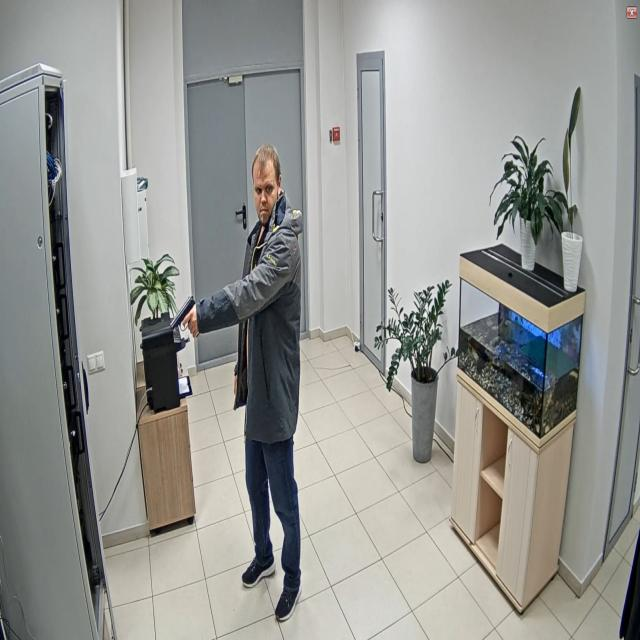-Gun: (170, 296, 195, 332)
